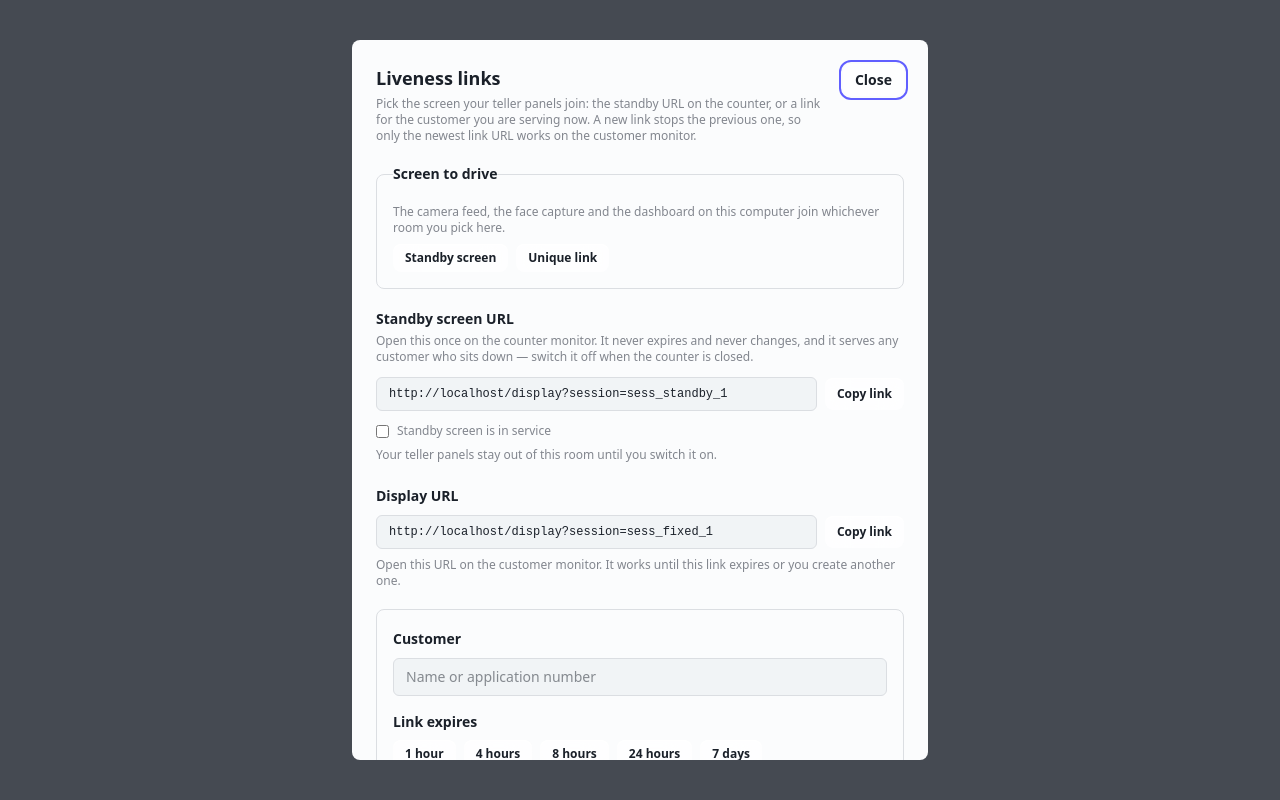
Scenario: LivenessPageModal › keeps the dialog open and reports the server sentence when a mint is refused
Expected: the field labelled "Display URL" is shown, [376,515,817,549]
Type "Sok Dara" into the field labelled "Customer" at (640, 677), box [393,658,887,696]
(page scrolled)
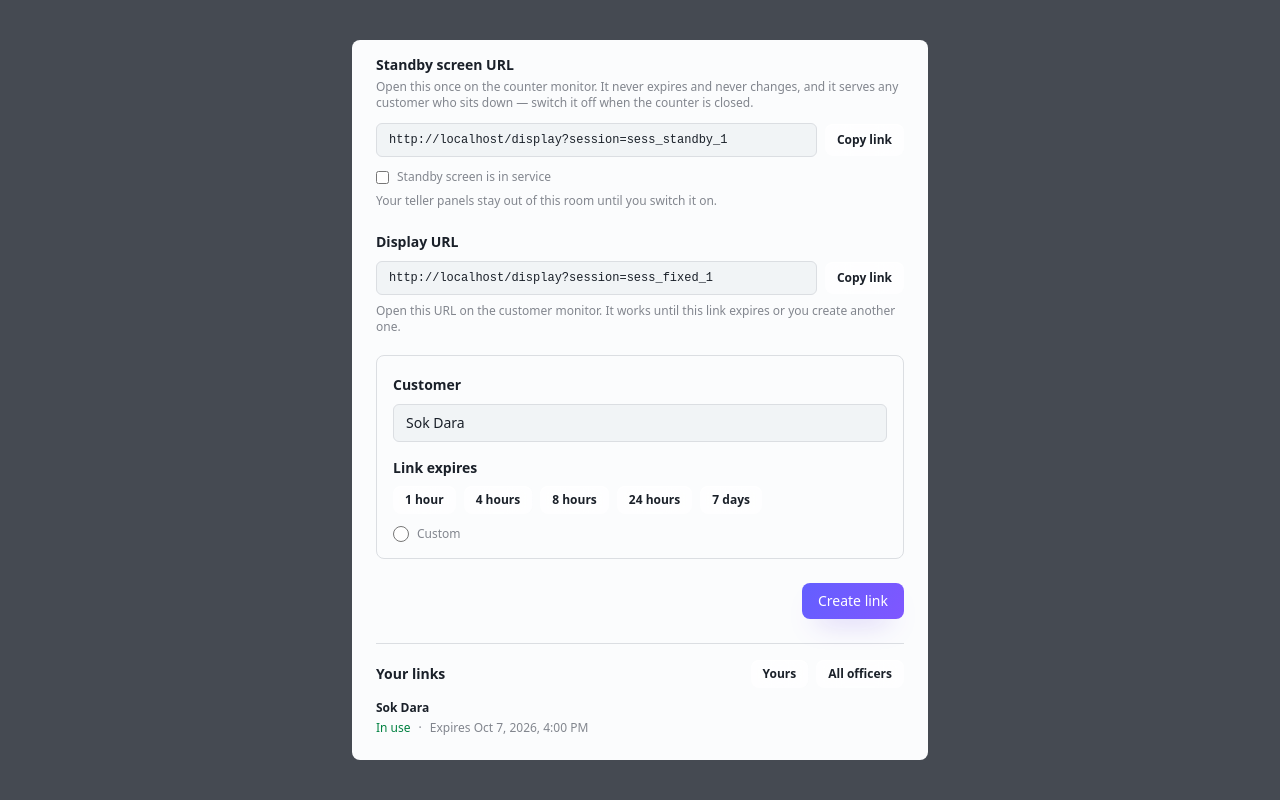
Click the button "Create link" at (853, 601), box [802,583,904,619]
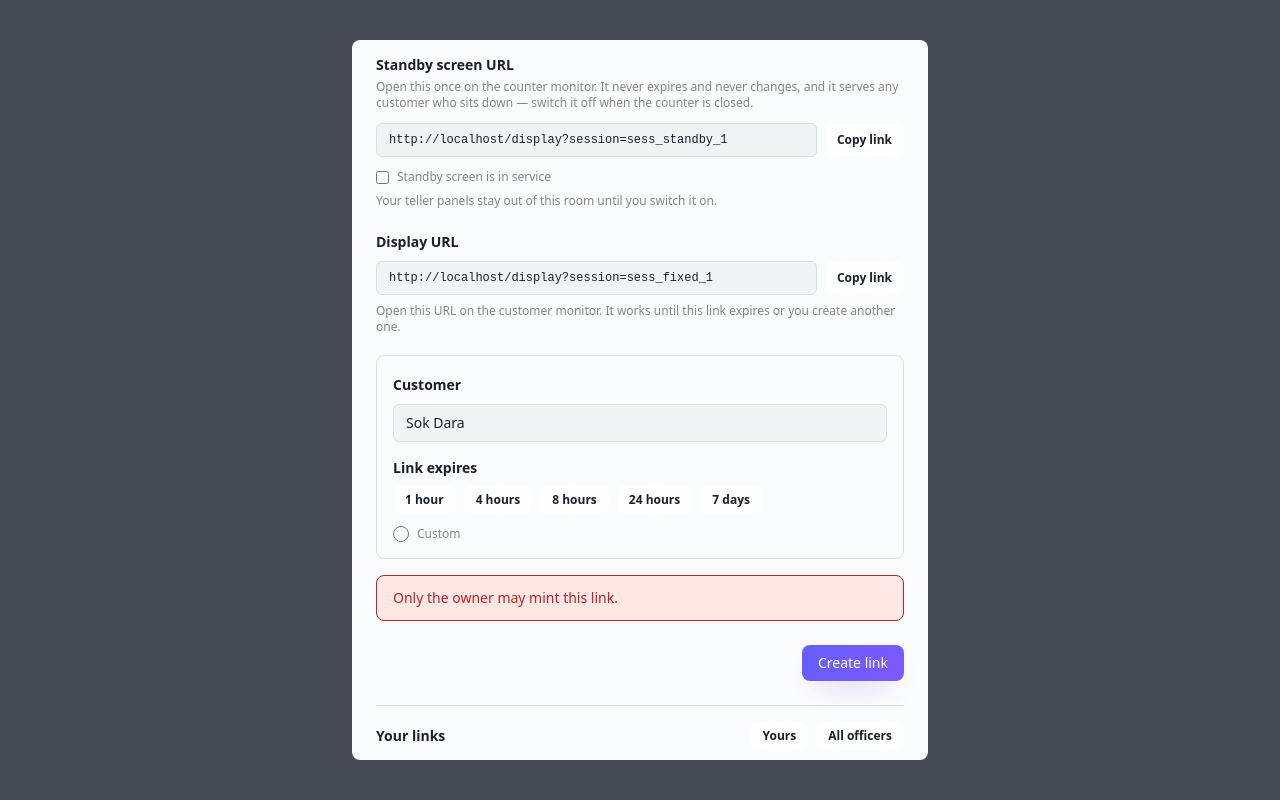
Result: the button "Create link" is enabled at [802,645,904,681]
Result: the text "Only the owner may mint this link." is shown at [376,575,904,621]
